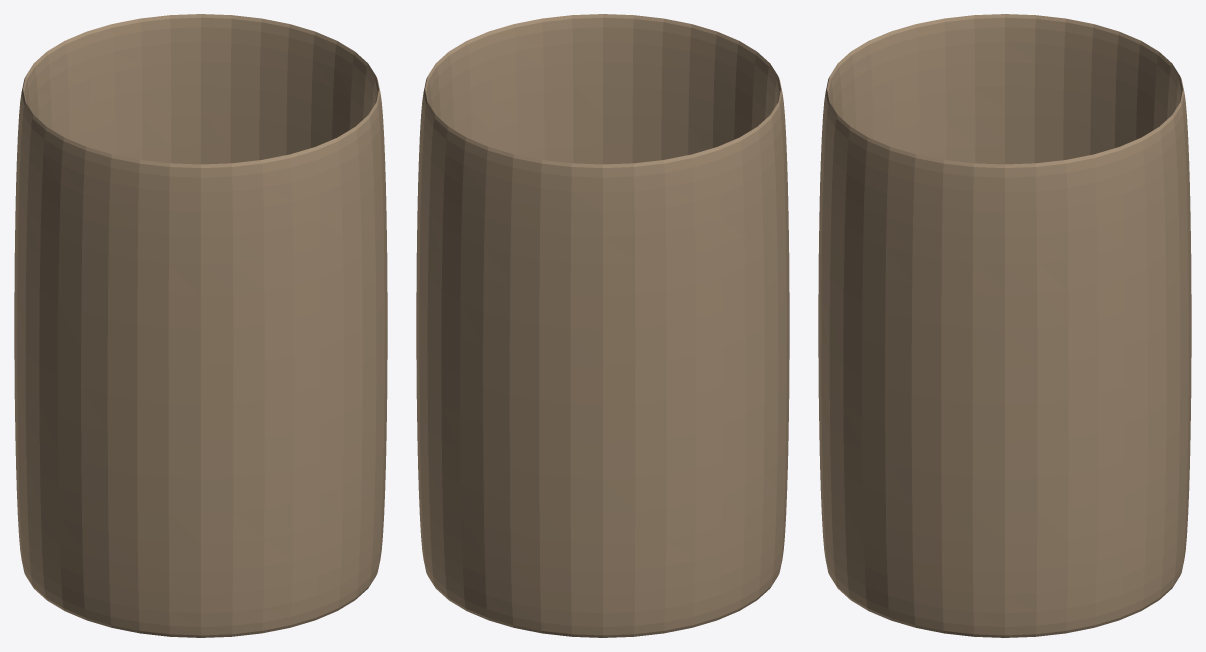
Rendered from vase.glb.
3 renders of one model, left to right at view 1: azimuth 30°, elevation 25°; view 2: azimuth 150°, elevation 25°; view 3: azimuth 270°, elevation 25°, orthographic.
Visible parts, largest first — view 1: Mesh_Mesh_head_geo.001_lambert2SG.001; view 2: Mesh_Mesh_head_geo.001_lambert2SG.001; view 3: Mesh_Mesh_head_geo.001_lambert2SG.001.
Part boxes in pixels (left/top/right/bottom): Mesh_Mesh_head_geo.001_lambert2SG.001: left=14, top=14, right=387, bottom=637; Mesh_Mesh_head_geo.001_lambert2SG.001: left=416, top=14, right=789, bottom=637; Mesh_Mesh_head_geo.001_lambert2SG.001: left=818, top=14, right=1191, bottom=637.
Bounding box in the file's own units: 0.01 × 0.014 × 0.01.
